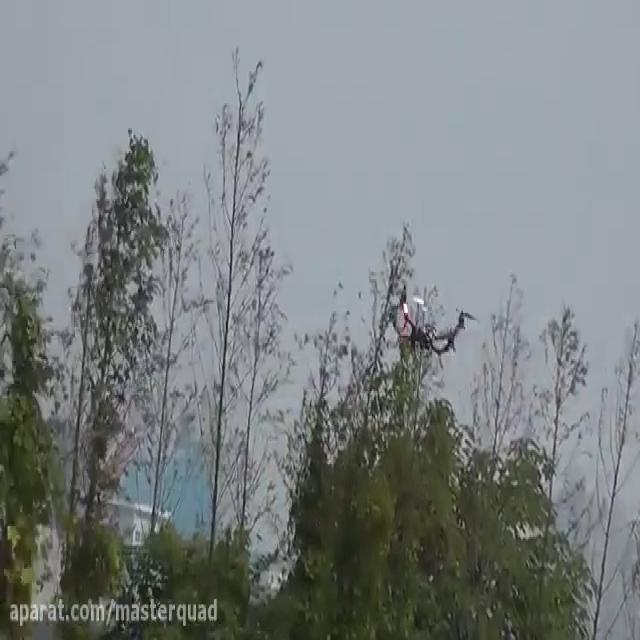drone: (384, 277, 483, 359)
